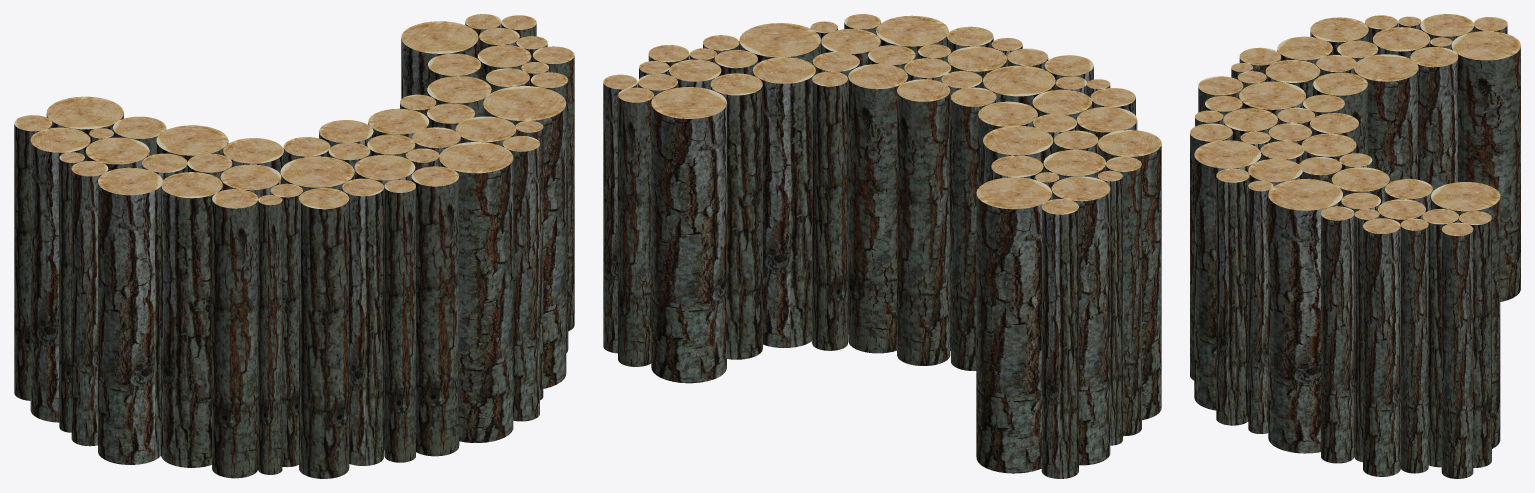
Rendered from Tree Logs Bar.fbx.
3 renders of one model, left to right at view 1: azimuth 30°, elevation 25°; view 2: azimuth 150°, elevation 25°; view 3: azimuth 270°, elevation 25°, orthographic. The views are drawn at different scales.
Parts seen in each view (by area): view 1: Cylinder.037, Cylinder.009, Cylinder.027, Cylinder.005, Cylinder.038, Cylinder.008, Cylinder.004, Cylinder.036, Cylinder.007, Cylinder.030, Cylinder.045, Cylinder.040 (+32 smaller); view 2: Cylinder.025, Cylinder.026, Cylinder.013, Cylinder.019, Cylinder.012, Cylinder.049, Cylinder.023, Cylinder.022, Cylinder.036, Cylinder.035, Cylinder.011, Cylinder.037 (+28 smaller); view 3: Cylinder.030, Cylinder.026, Cylinder.047, Cylinder.046, Cylinder.045, Cylinder.042, Cylinder.041, Cylinder.009, Cylinder.021, Cylinder.024, Cylinder.044, Cylinder.035 (+34 smaller).
Part boxes in pixels (x1,y1,x2,y2): Cylinder.037: [98, 167, 162, 464]; Cylinder.009: [439, 142, 513, 442]; Cylinder.027: [161, 172, 222, 467]; Cylinder.005: [299, 188, 349, 478]; Cylinder.038: [212, 189, 258, 478]; Cylinder.008: [411, 166, 459, 456]; Cylinder.004: [342, 178, 383, 465]; Cylinder.036: [30, 127, 90, 422]; Cylinder.007: [384, 179, 415, 462]; Cylinder.030: [483, 86, 566, 388]; Cylinder.045: [502, 136, 539, 421]; Cylinder.040: [71, 161, 108, 446]; Cylinder.025: [651, 87, 726, 383]; Cylinder.026: [976, 177, 1052, 473]; Cylinder.013: [897, 79, 950, 365]; Cylinder.019: [752, 57, 815, 347]; Cylinder.012: [848, 64, 907, 353]; Cylinder.049: [1041, 199, 1078, 478]; Cylinder.023: [710, 73, 762, 359]; Cylinder.022: [812, 71, 847, 350]; Cylinder.036: [1051, 176, 1110, 465]; Cylinder.035: [618, 87, 653, 366]; Cylinder.011: [951, 87, 996, 370]; Cylinder.037: [1098, 130, 1161, 419]; Cylinder.030: [1268, 179, 1342, 453]; Cylinder.026: [1451, 31, 1520, 301]; Cylinder.047: [1363, 218, 1400, 476]; Cylinder.046: [1321, 206, 1354, 463]; Cylinder.045: [1216, 168, 1249, 425]; Cylinder.042: [1441, 222, 1473, 478]; Cylinder.041: [1400, 218, 1428, 473]; Cylinder.009: [1194, 140, 1261, 410]; Cylinder.021: [1354, 54, 1418, 182]; Cylinder.024: [1410, 47, 1458, 190]; Cylinder.044: [1248, 180, 1273, 433]; Cylinder.035: [1458, 211, 1491, 467].
Size of the model in its own units: 1322 by 675 by 832.
Materials: 1 (1 with a texture image).
